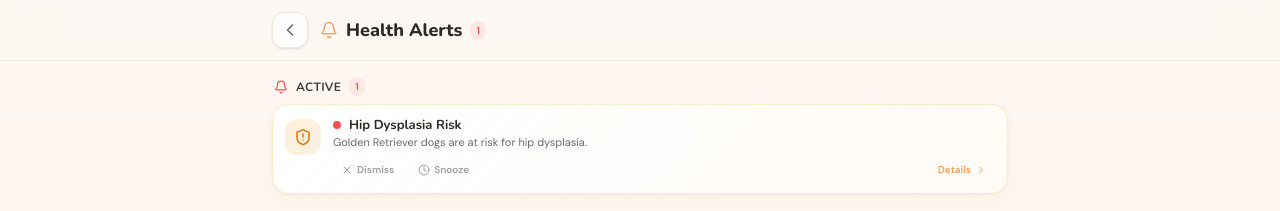
AlertsPage › snoozes an alert when the snooze button is clicked
Expected: the heading "Hip Dysplasia Risk" is shown, [349, 117, 462, 133]
Click the button with aria-label "snooze hip dysplasia risk alert". click: (444, 170)
box: [410, 158, 477, 181]
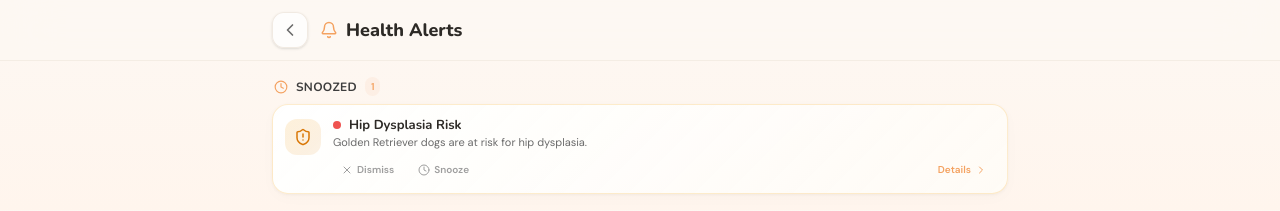
Result: the heading "Snoozed" is shown at [296, 78, 357, 94]
